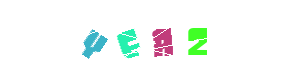2: (157, 0, 237, 80)
A: (122, 0, 202, 80)
E: (110, 0, 190, 80)
Y: (71, 0, 151, 80)
